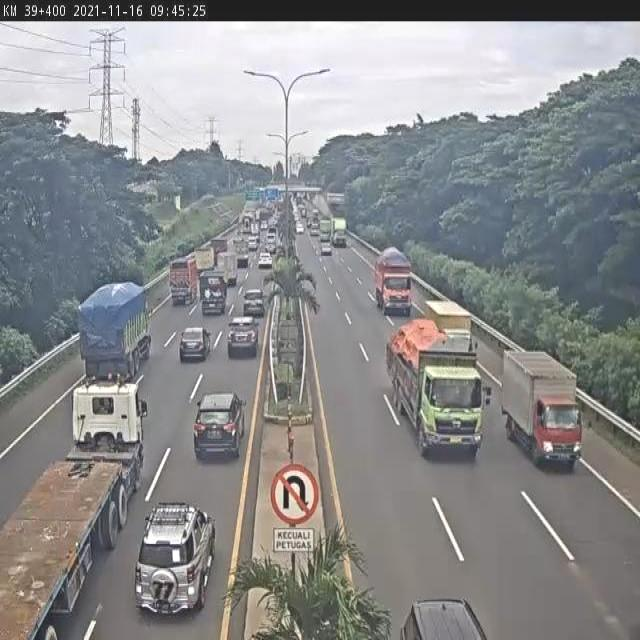Car: (134, 502, 216, 618), (192, 389, 246, 461), (399, 597, 490, 639), (227, 316, 260, 358), (179, 326, 212, 364), (242, 288, 266, 317), (257, 252, 273, 270), (321, 241, 332, 256), (248, 236, 258, 252)
Truck: (0, 378, 147, 638), (386, 317, 486, 454), (501, 350, 584, 466), (80, 283, 150, 380), (374, 247, 414, 314), (199, 270, 227, 314), (170, 258, 197, 302)
